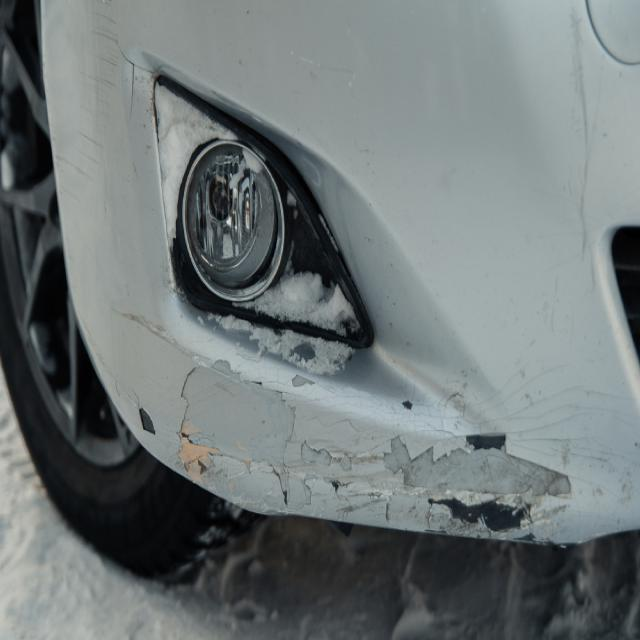scratch: (133, 345, 585, 551)
